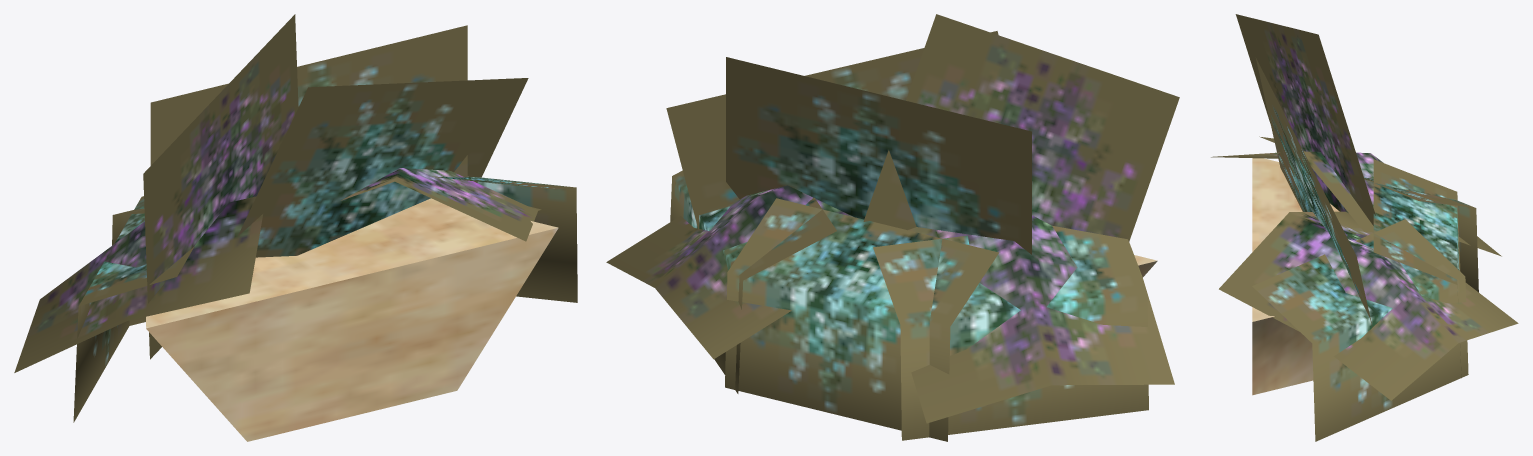
Rendered from thm_tato_imprv_planter_hanging_s01_l2.fbx.
3 views of the same model, side by side, from view 1: azimuth 30°, elevation 25°; view 2: azimuth 150°, elevation 25°; view 3: azimuth 270°, elevation 25° (orthographic). The views are drawn at different scales.
Parts seen in each view (by area): view 1: mesh_node; view 2: mesh_node; view 3: mesh_node.
Boxes of the visible parts, <box> form: mesh_node: <box>14,14,577,441</box>; mesh_node: <box>606,14,1179,441</box>; mesh_node: <box>1211,14,1518,441</box>.
Size of the model in its own units: 1.34 by 0.8577 by 0.7746.
